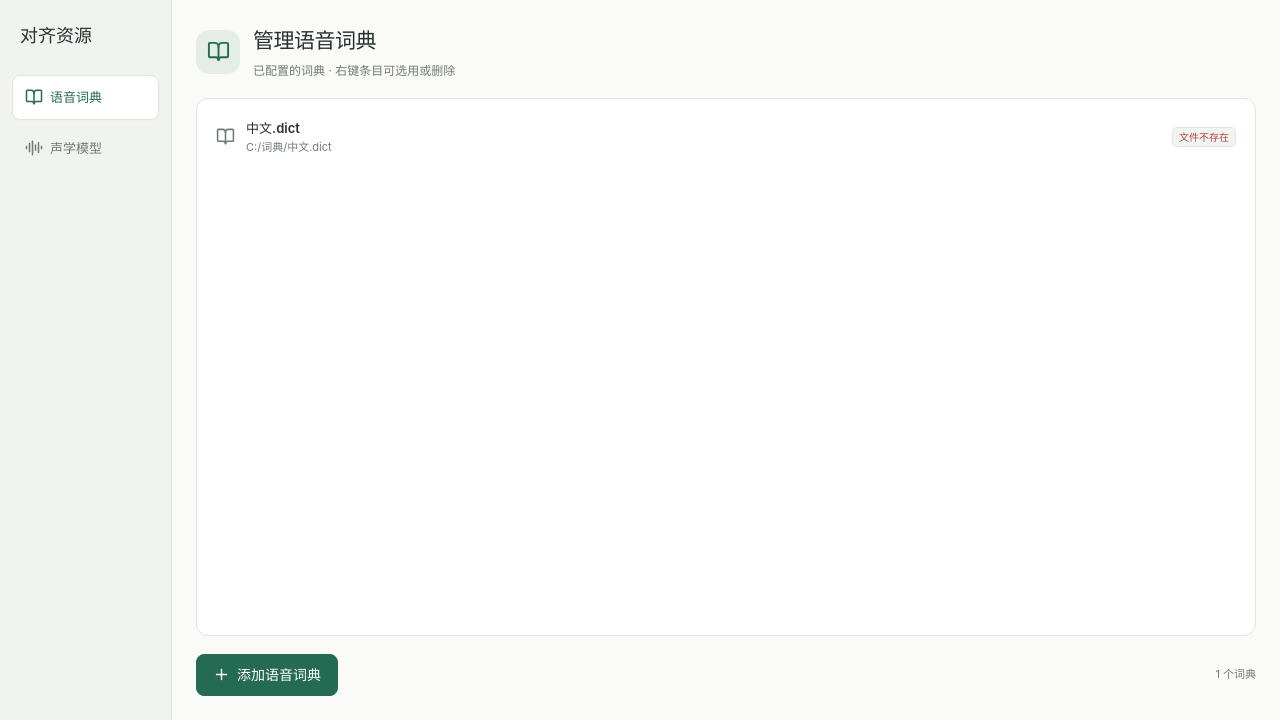
it: does not offer selection of a missing dictionary file
The image size is (1280, 720).
Right-click the button "中文.dict C:/词典/中文.dict 文件不存在": (273, 128) [203,105,1249,169]
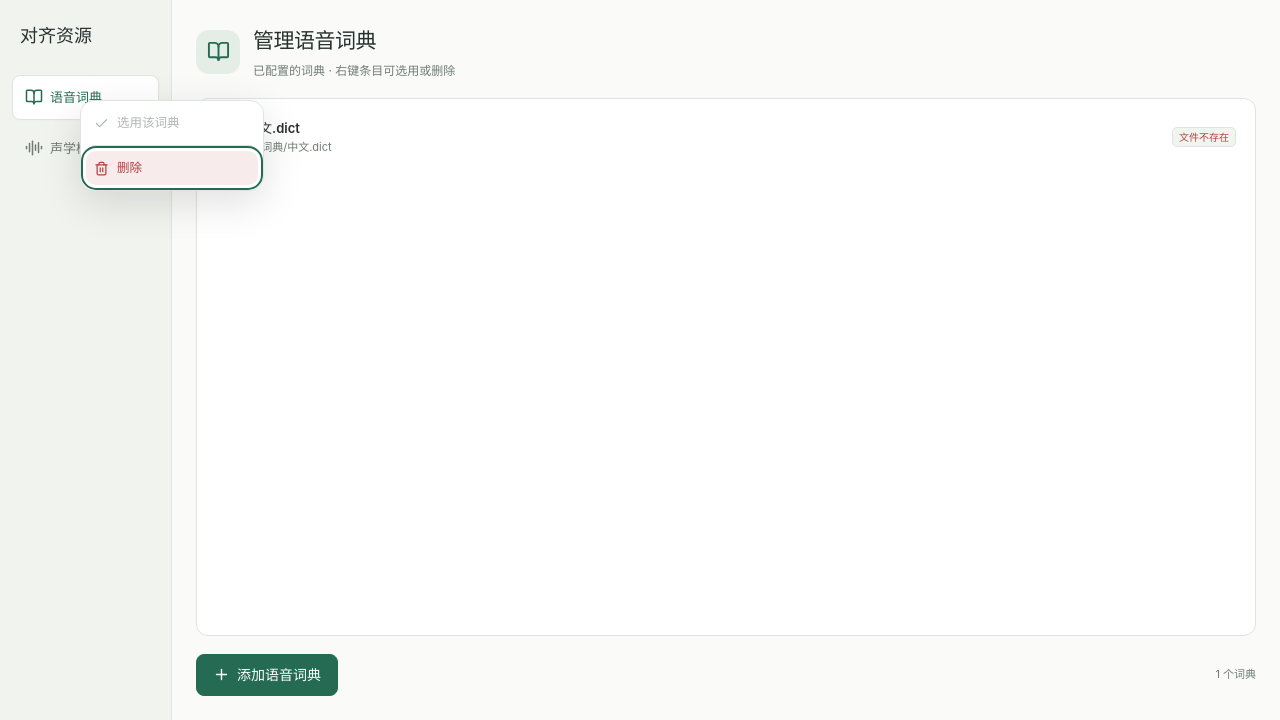
Result: the menu item "选用该词典" is disabled at [86,106,258,140]
Result: the menu item "删除" is enabled at [86,151,258,185]
